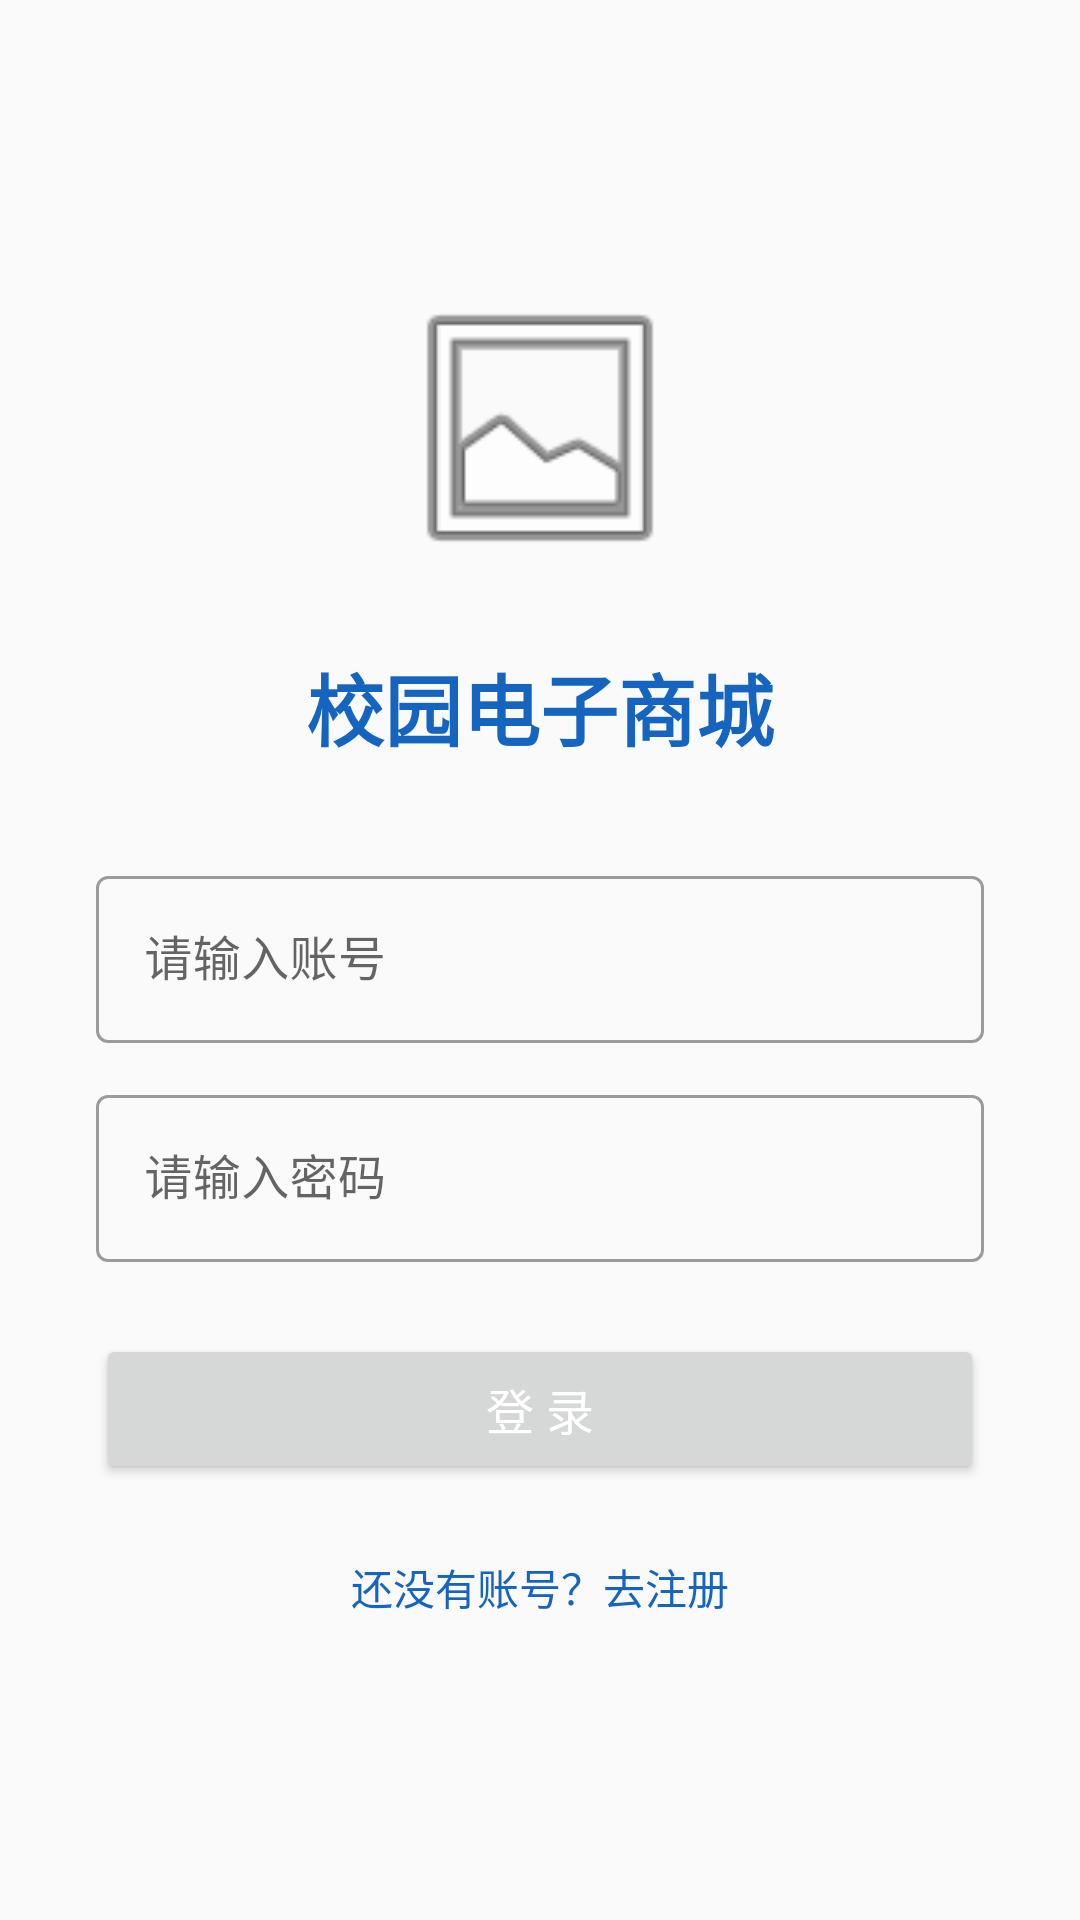

Point at icon controls on the screen. Image size 1080 x 1920, points as (x=x, y=y).
gallery: (x=540, y=428)
